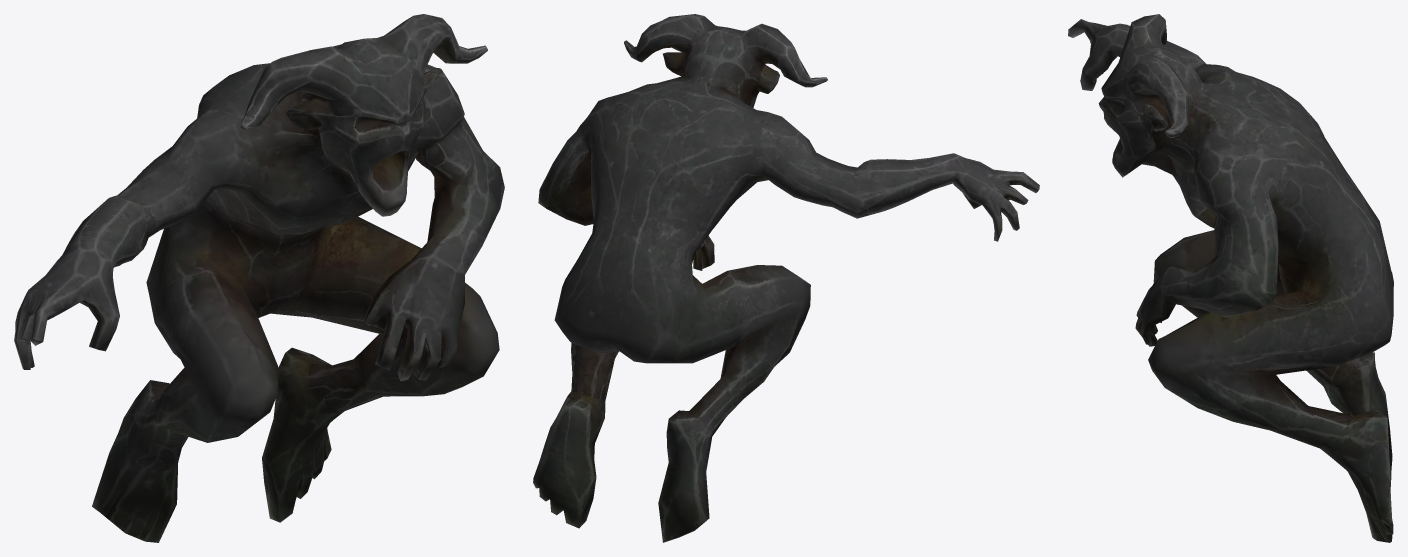
The picture shows the model from 3 angles, left to right: view 1: azimuth 30°, elevation 25°; view 2: azimuth 150°, elevation 25°; view 3: azimuth 270°, elevation 25°; orthographic projection. The views are drawn at different scales.
Parts seen in each view (by area): view 1: SM_Gargoyle_04_v1_LOD0; view 2: SM_Gargoyle_04_v1_LOD0; view 3: SM_Gargoyle_04_v1_LOD0.
Part boxes in pixels (bbox=[...]): SM_Gargoyle_04_v1_LOD0: bbox=[14, 14, 504, 542]; SM_Gargoyle_04_v1_LOD0: bbox=[533, 14, 1039, 542]; SM_Gargoyle_04_v1_LOD0: bbox=[1068, 14, 1393, 542].
Size of the model in its own units: 3.59 by 3.61 by 2.23.
Materials: 1 (1 with a texture image).
